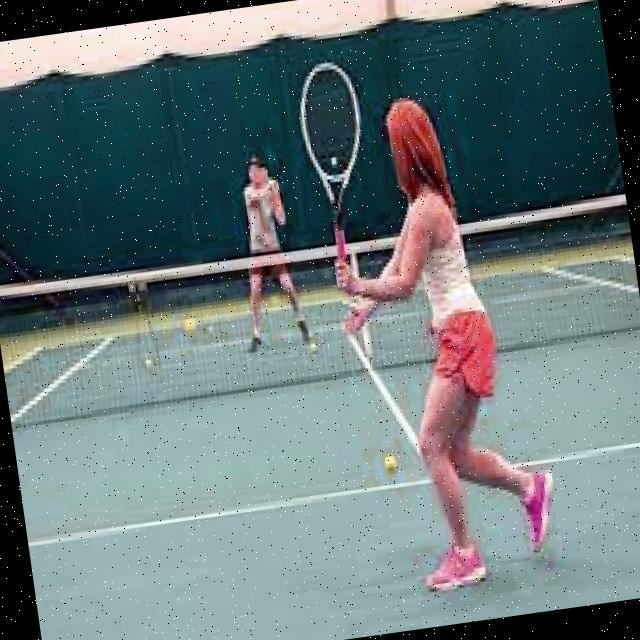net: (0, 185, 640, 440)
player: (290, 23, 560, 594)
